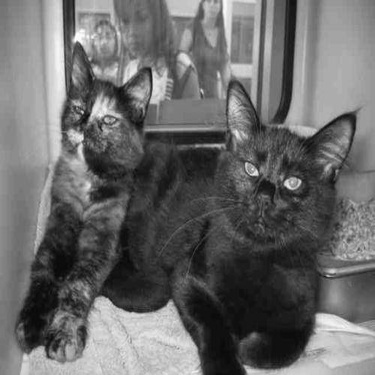cat: (94, 81, 361, 369), (11, 38, 151, 367)
